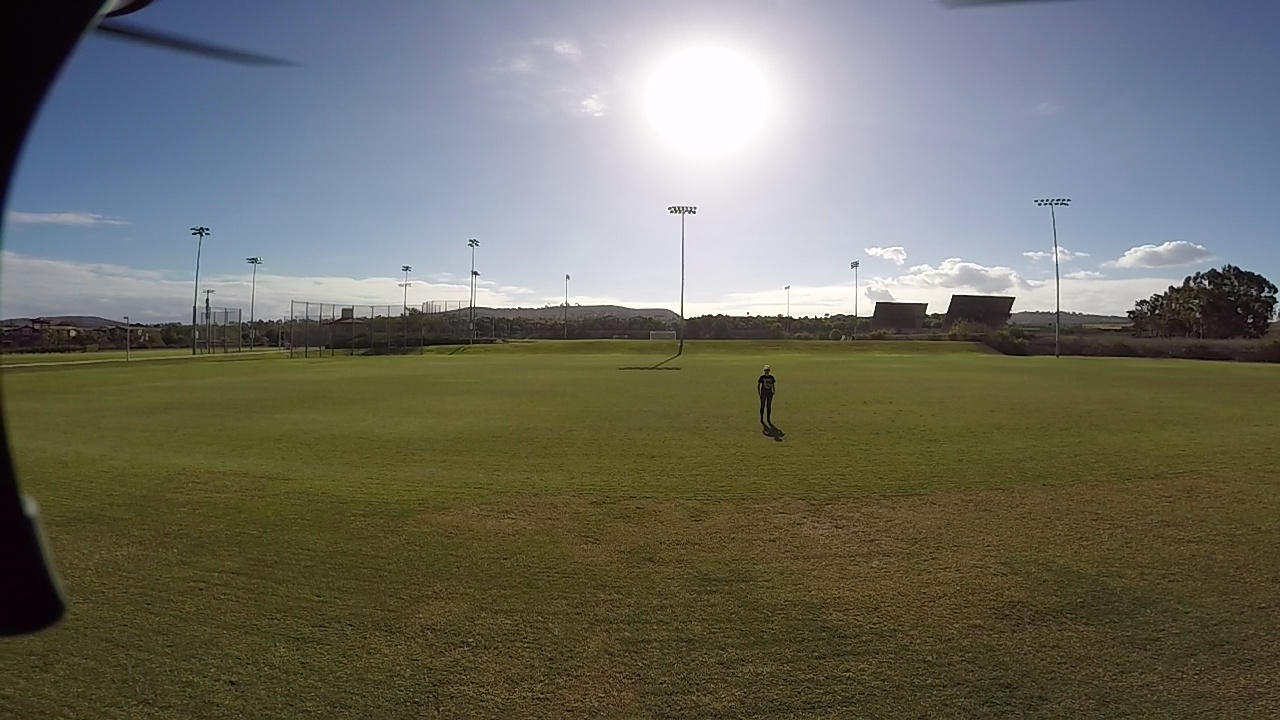person: (754, 360, 782, 437)
